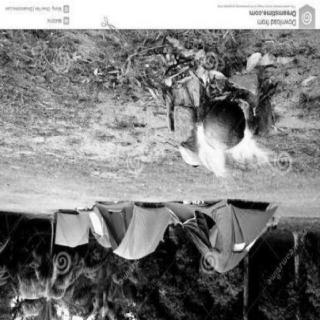Fire: (170, 89, 294, 210)
